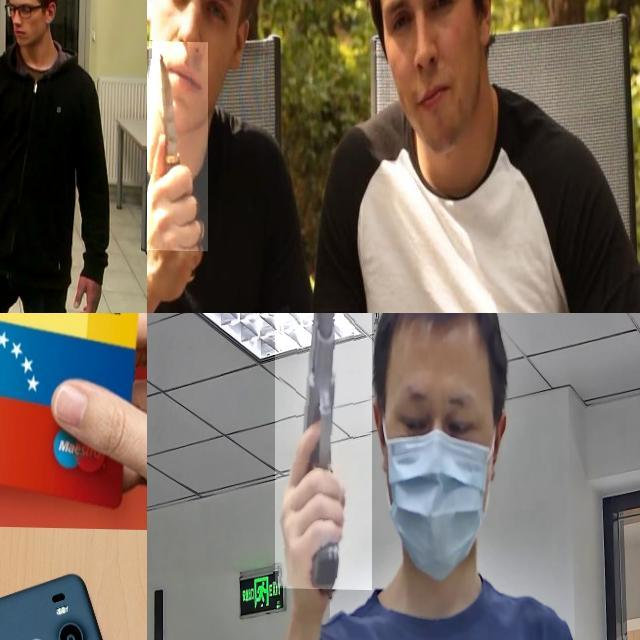-: (147, 40, 207, 250)
gun-knife-thesis - v11 Yolov5 augmented: (274, 313, 372, 588), (0, 122, 29, 170)
